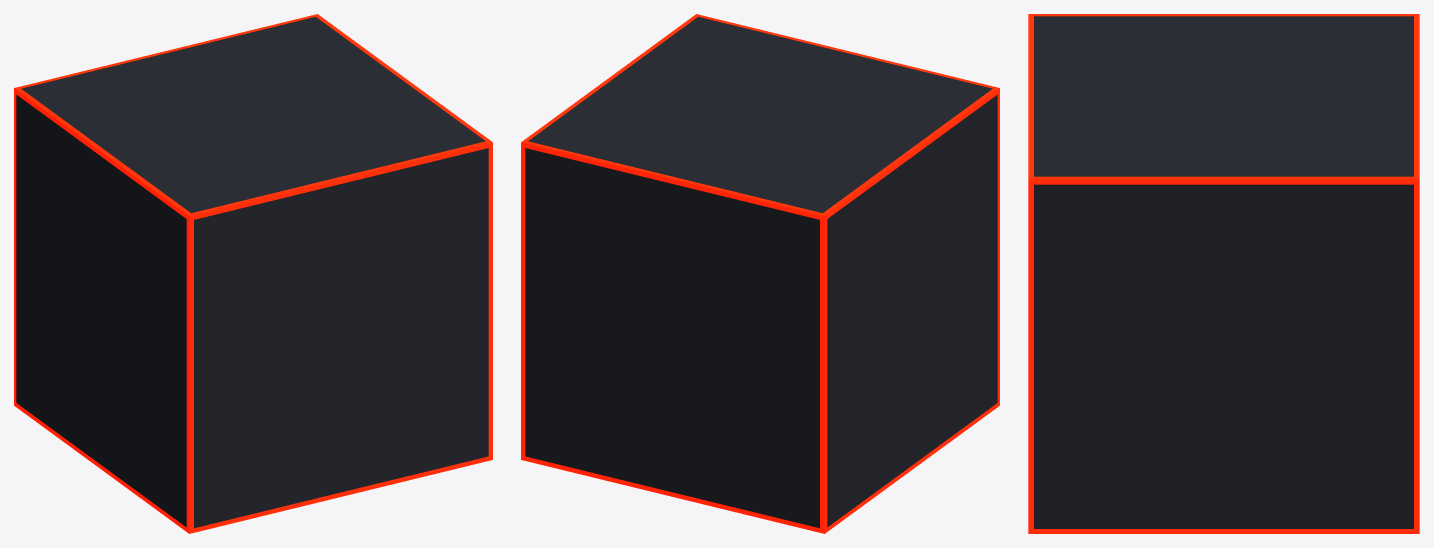
3 renders of one model, left to right at view 1: azimuth 30°, elevation 25°; view 2: azimuth 150°, elevation 25°; view 3: azimuth 270°, elevation 25°, orthographic. The views are drawn at different scales.
Visible parts, largest first — view 1: Cube, Red; view 2: Cube, Red; view 3: Cube, Red.
Boxes of the visible parts, x1,y1,x2,y2 form: Cube: (16, 17, 488, 528); Red: (14, 14, 492, 533); Cube: (525, 17, 997, 528); Red: (521, 14, 999, 533); Cube: (1034, 16, 1413, 528); Red: (1028, 14, 1419, 533).
Bounding box in the file's own units: 2 × 2 × 2.
